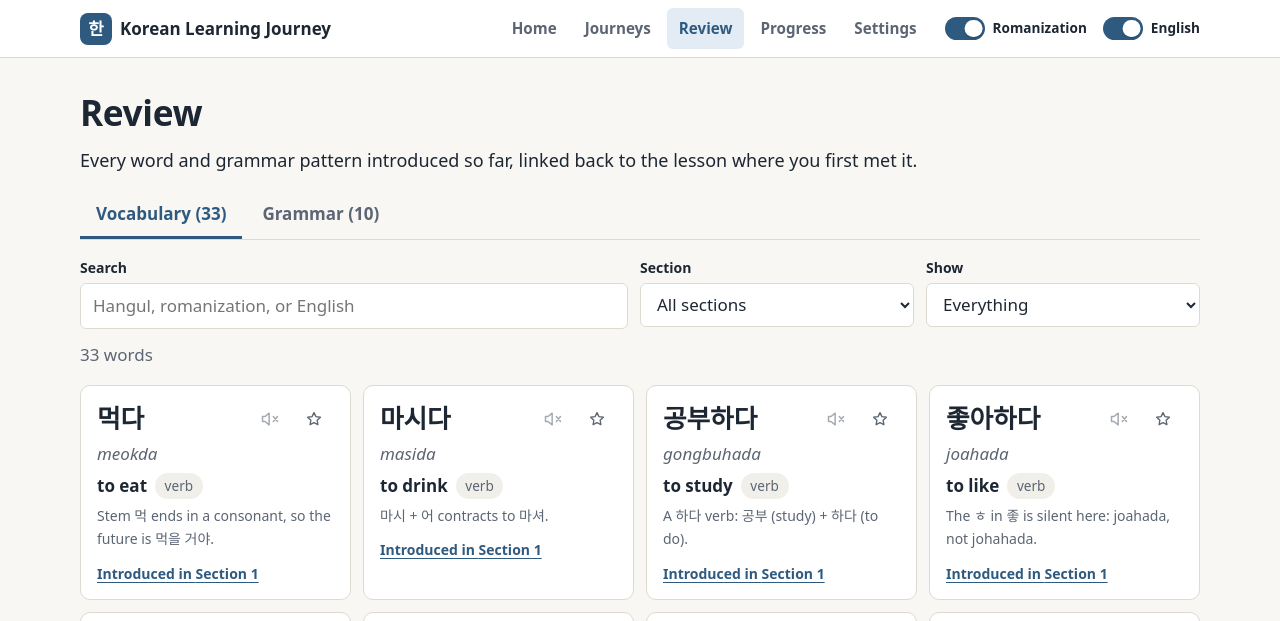
it: end-to-end navigation › review page searches vocabulary and links to the source lesson
Type "coffee" into the search field at (354, 306), box [80, 283, 628, 329]
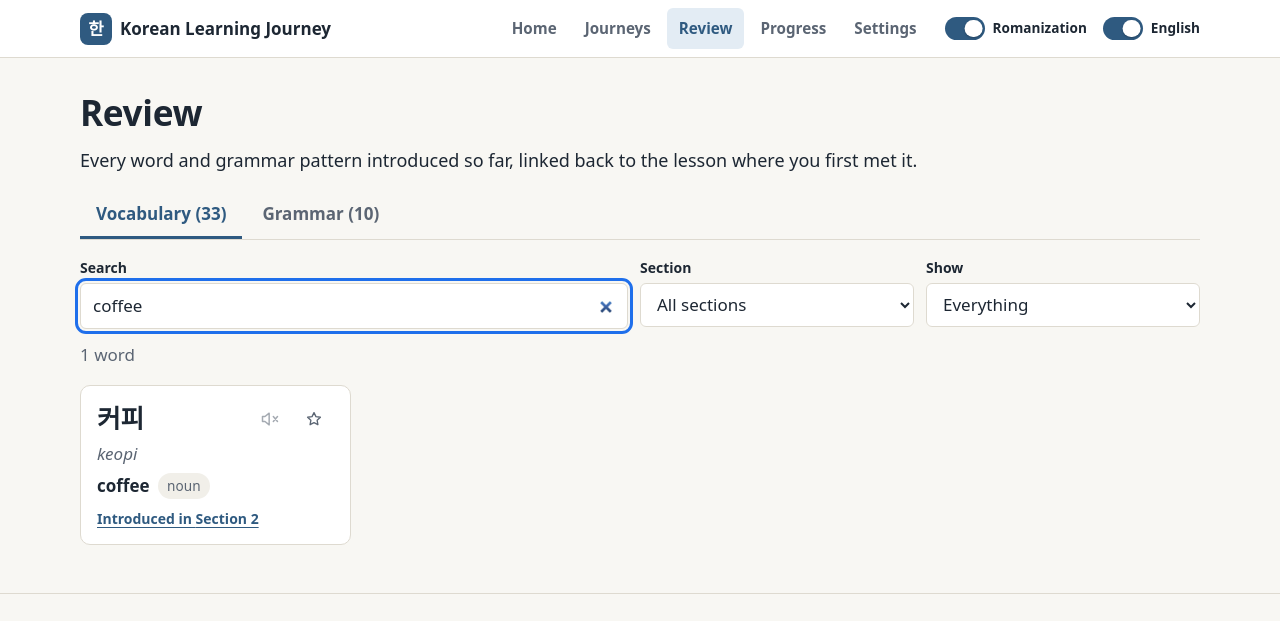
Expected: the element named "커피: coffee" is shown, [80, 385, 351, 545]
Click the link "Introduced in Section 2" at (178, 519), box [97, 507, 259, 530]
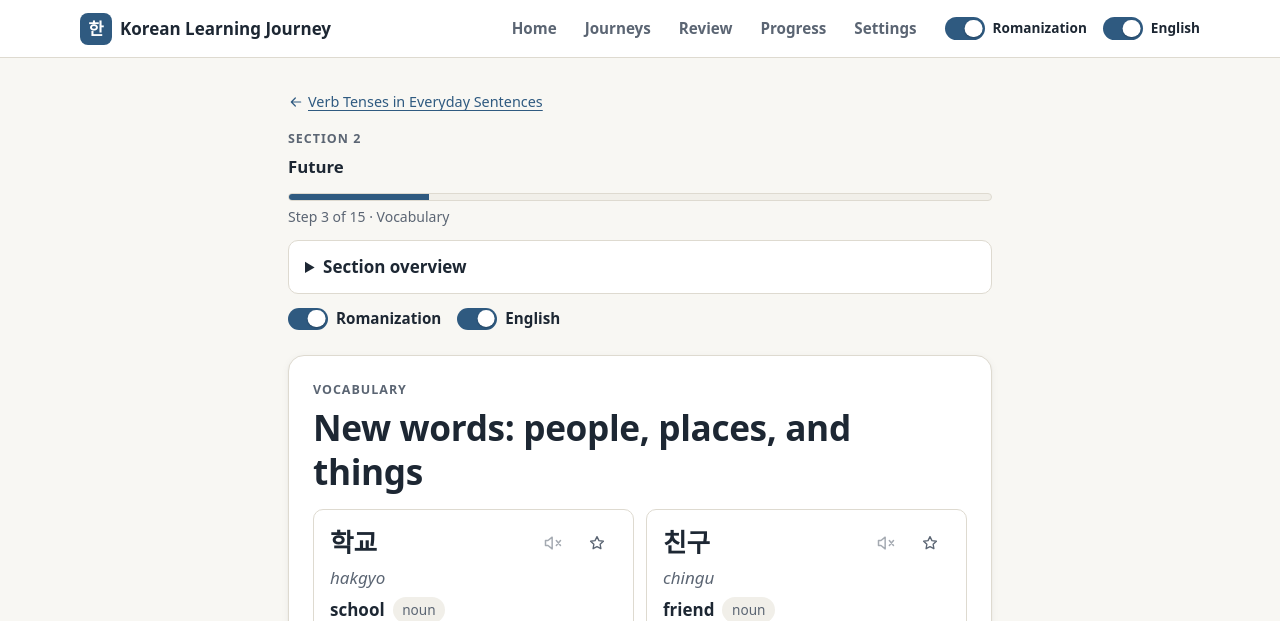
Expected: the heading "New words: people, places, and things" is shown, [313, 403, 851, 495]
